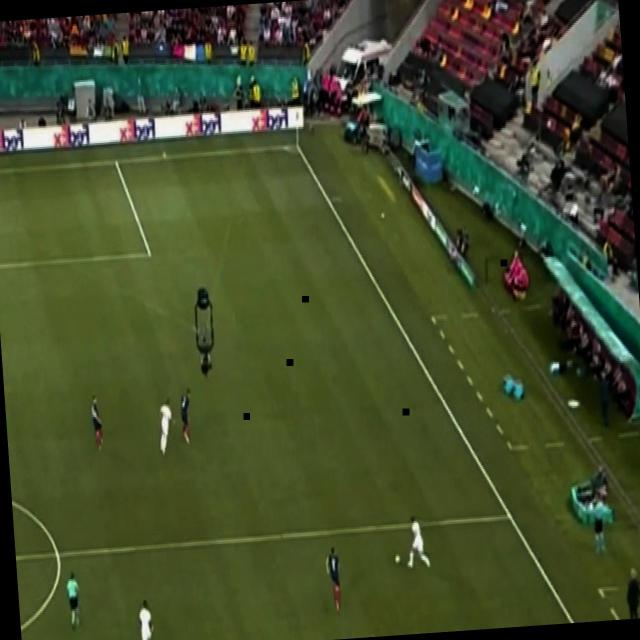ball: (393, 553, 401, 566)
player-white: (404, 511, 433, 573), (588, 486, 612, 560), (323, 540, 345, 618), (154, 394, 180, 459), (64, 566, 85, 635), (177, 383, 197, 446), (88, 392, 106, 453), (135, 595, 159, 640)
